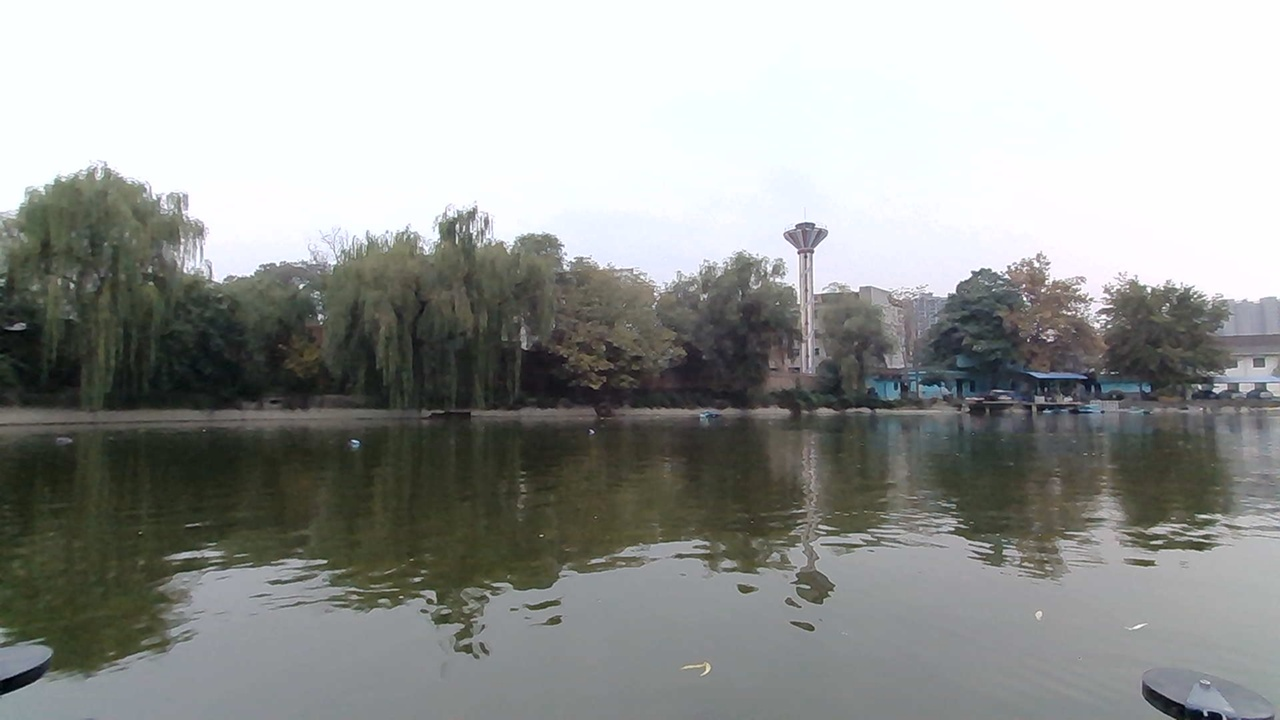bottle: (344, 435, 375, 453)
